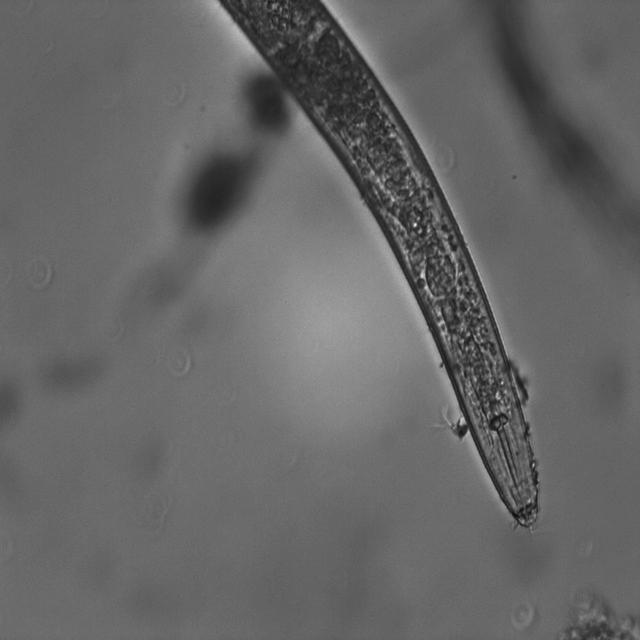Helicotylenchus: (211, 0, 541, 532)
